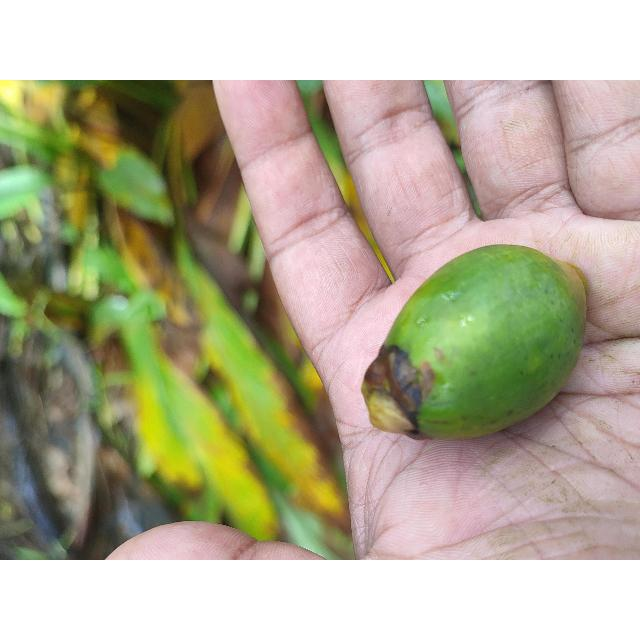good: (362, 245, 588, 442)
